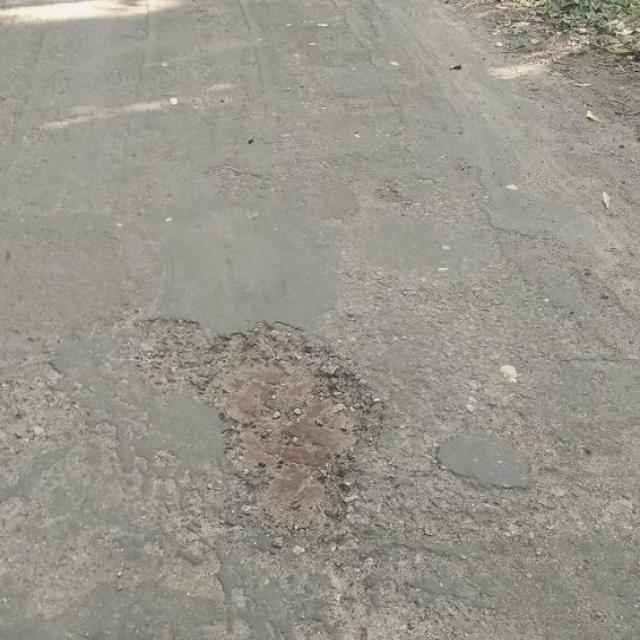road-pothole: (96, 306, 399, 570)
